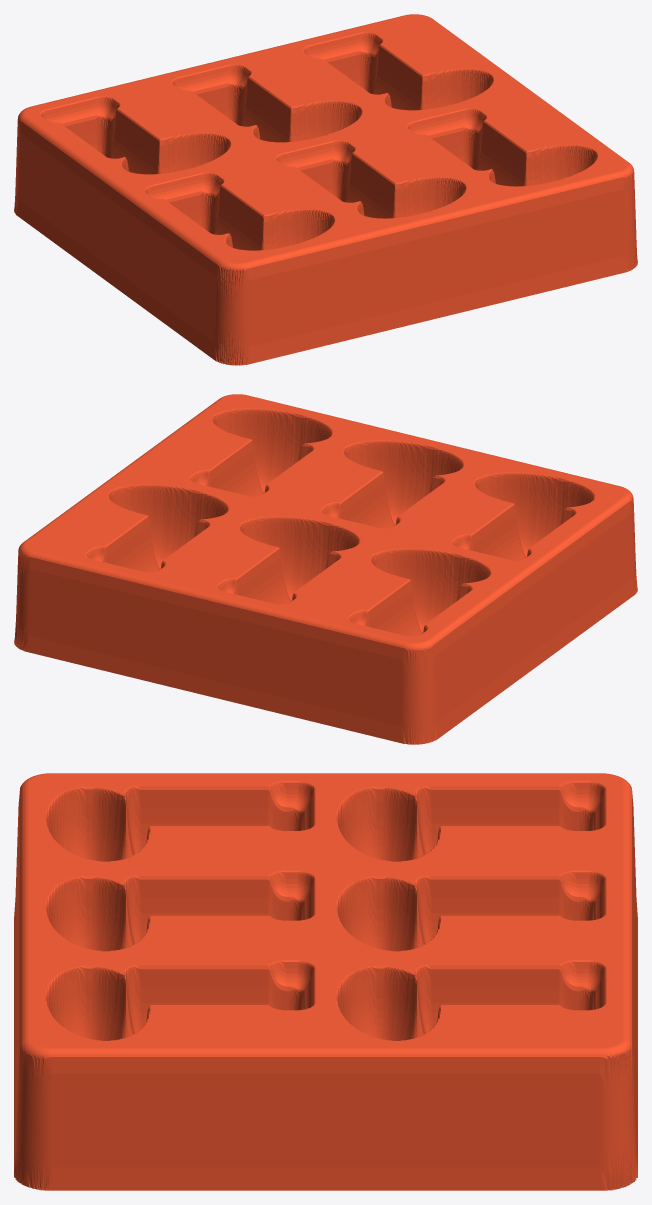
Rendered from mold.glb.
The picture shows the model from 3 angles, top to bottom: view 1: azimuth 30°, elevation 25°; view 2: azimuth 150°, elevation 25°; view 3: azimuth 270°, elevation 25°; orthographic projection. The views are drawn at different scales.
Parts seen in each view (by area): view 1: geometry_0; view 2: geometry_0; view 3: geometry_0.
Part boxes in pixels (bbox=[...]): geometry_0: bbox=[14, 14, 637, 365]; geometry_0: bbox=[14, 394, 637, 744]; geometry_0: bbox=[14, 773, 637, 1190].
Bounding box in the file's own units: 0.1622 × 0.036 × 0.1492.
